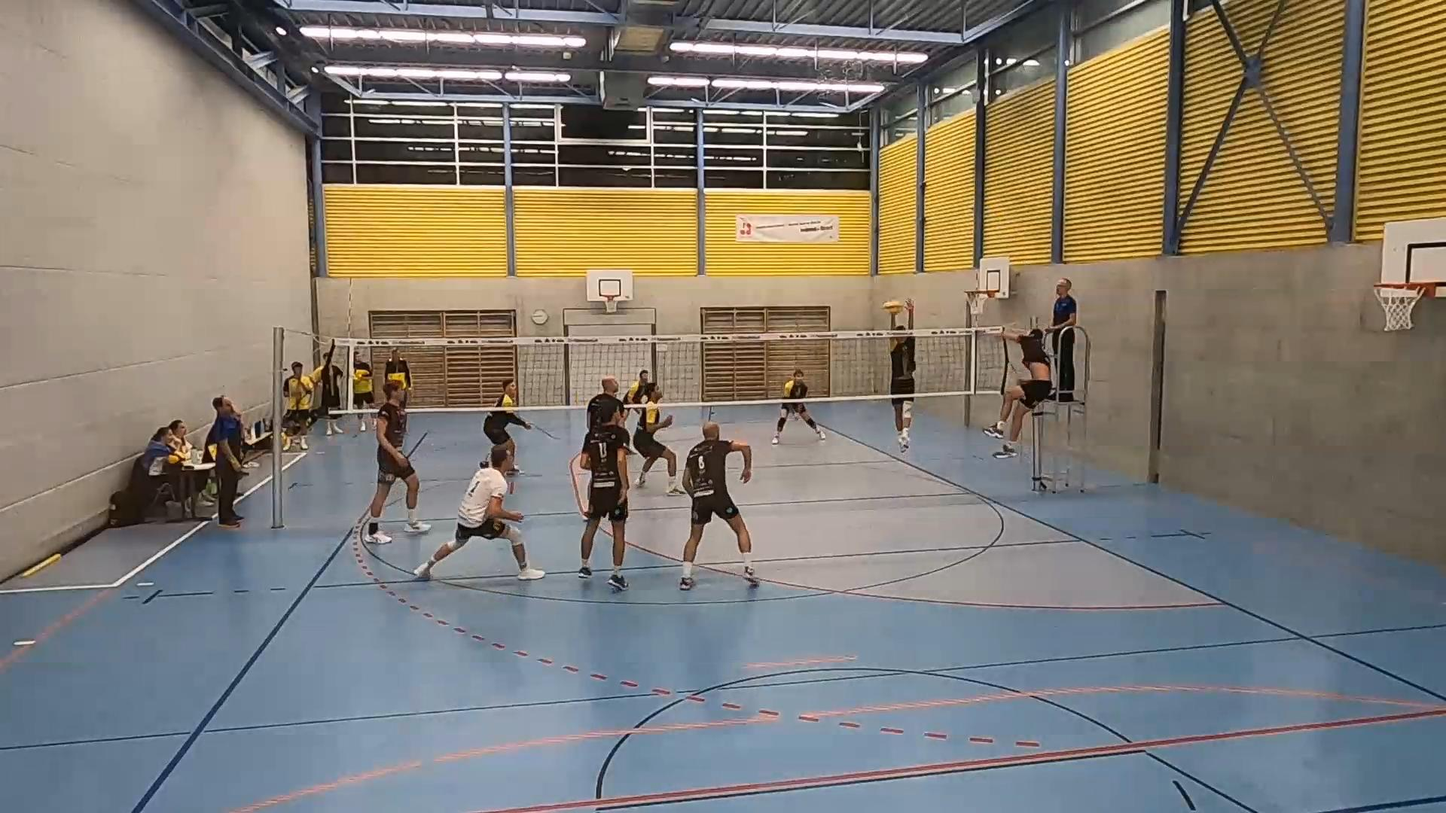Attack: (973, 319, 1054, 461)
Block: (877, 292, 918, 453)
Player: (413, 446, 545, 580), (679, 422, 758, 590), (362, 380, 429, 544), (578, 402, 627, 590), (633, 383, 683, 495), (772, 368, 825, 444), (483, 379, 531, 457), (587, 376, 622, 429), (622, 369, 651, 403), (624, 370, 651, 403)
ball: (883, 302, 902, 313)
